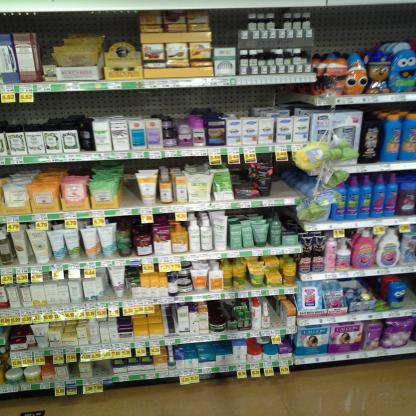Void: (275, 164, 290, 198), (121, 176, 136, 206)
